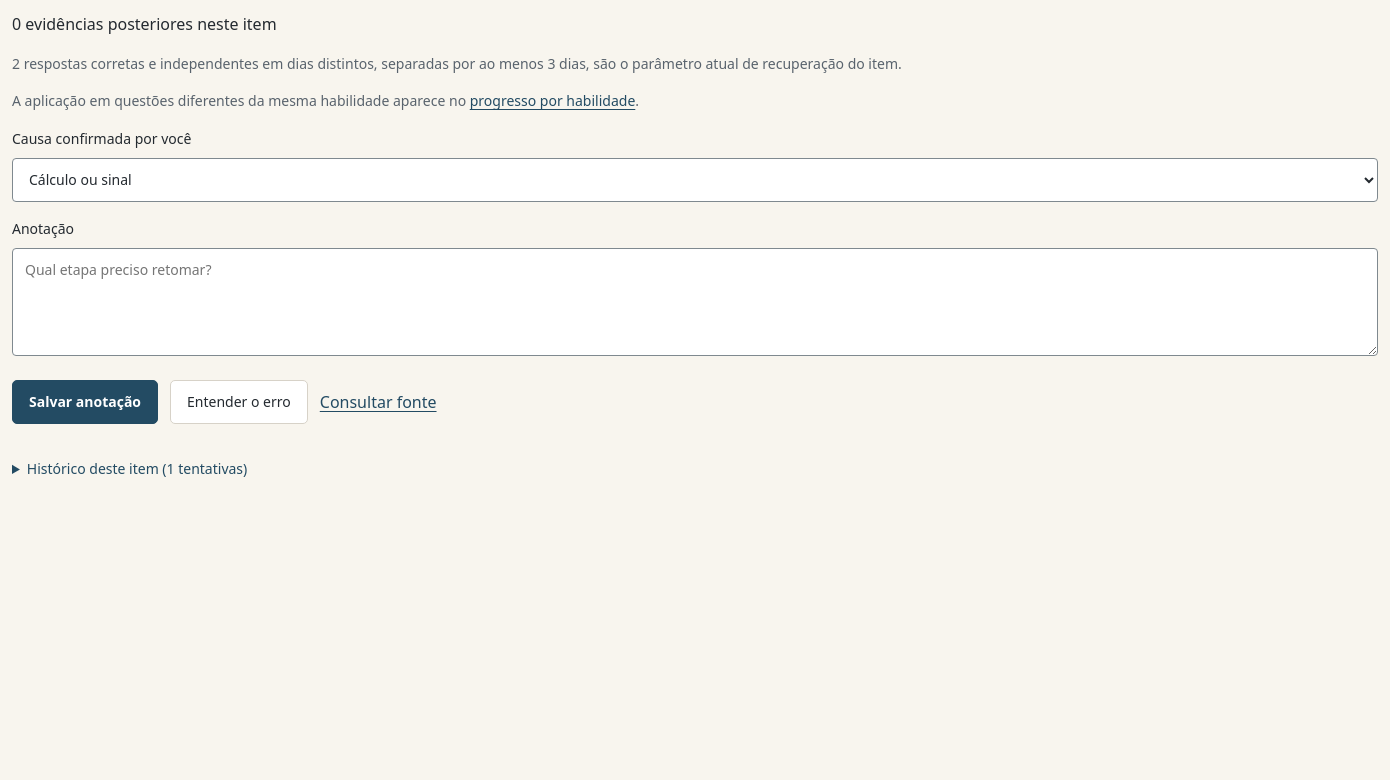
Test: missing reviewed support keeps support closed
This screenshot has width=1390, height=780.
Click the button "Entender o erro" at (239, 402), box x1=170 y1=380 x2=308 y2=424
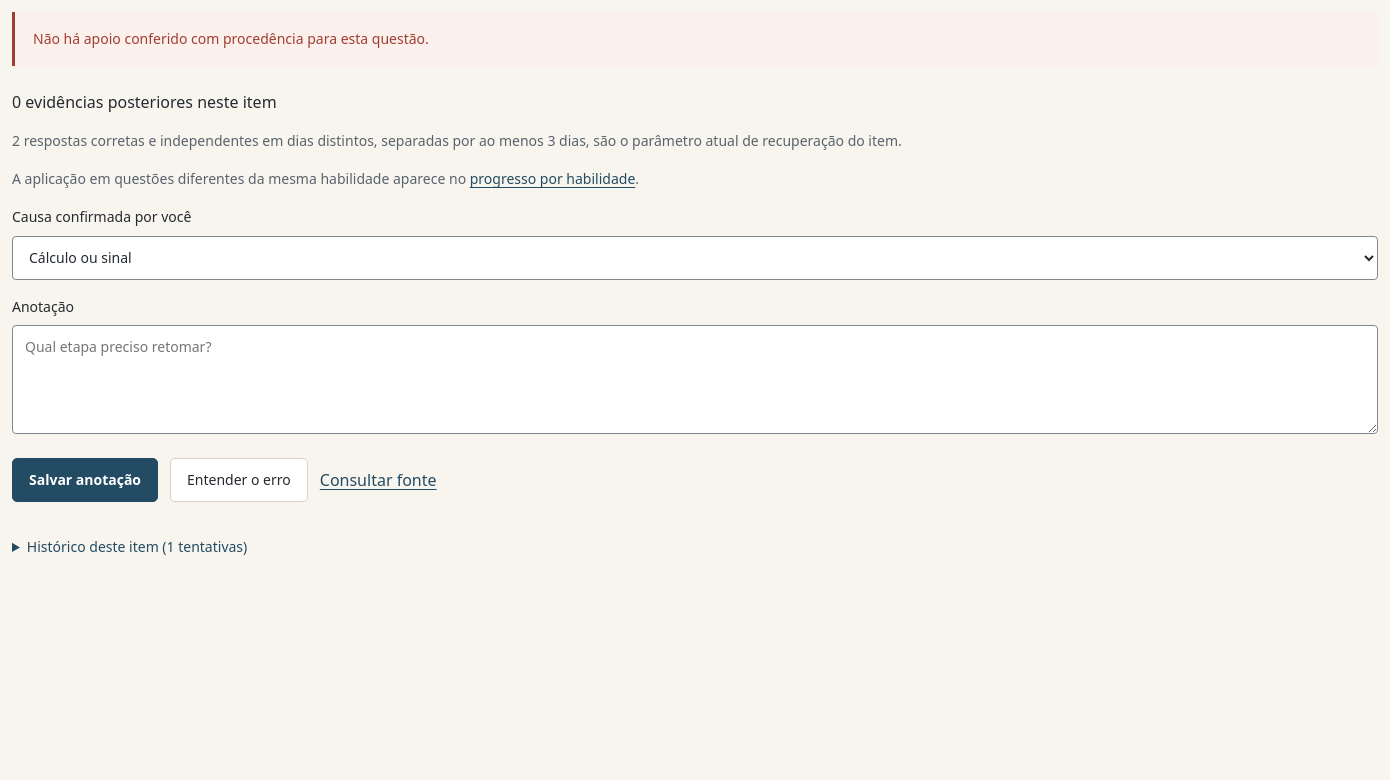
Check: the text "Não há apoio conferido com procedência para esta questão." is shown, box x1=12 y1=12 x2=1378 y2=66
